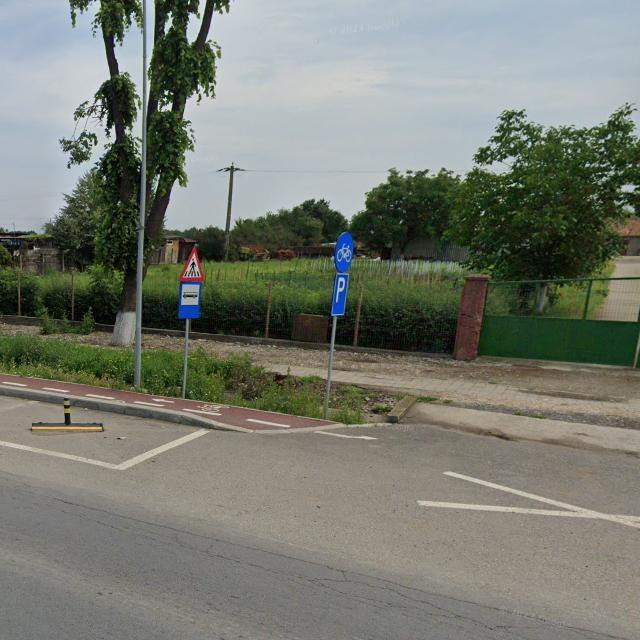warn_crosswalk: (178, 245, 204, 282)
